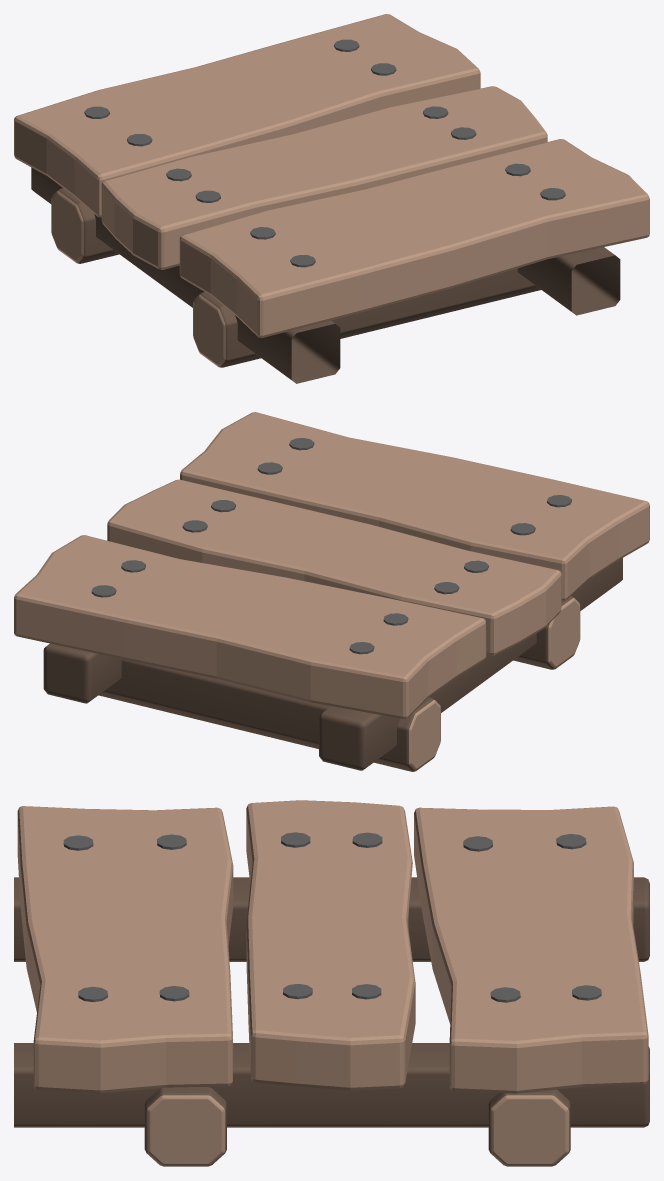
File: a1_R_wood_block.fbx
3 renders of one model, top to bottom at view 1: azimuth 30°, elevation 25°; view 2: azimuth 150°, elevation 25°; view 3: azimuth 270°, elevation 25°, orthographic. The views are drawn at different scales.
Visible parts, largest first — view 1: R_wood_block; view 2: R_wood_block; view 3: R_wood_block.
Boxes of the visible parts, x1,y1,x2,y2 form: R_wood_block: (14,14,649,383); R_wood_block: (14,412,649,771); R_wood_block: (14,800,649,1166).
Size of the model in its own units: 1.69 by 0.4742 by 1.85.
